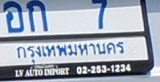txt01: (25, 1, 49, 33)
txt38: (2, 1, 25, 34)
